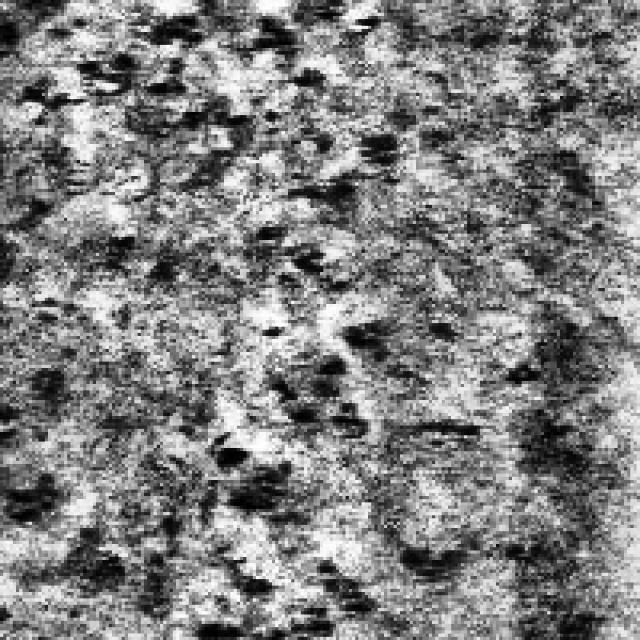Crazing: (173, 311, 416, 634)
